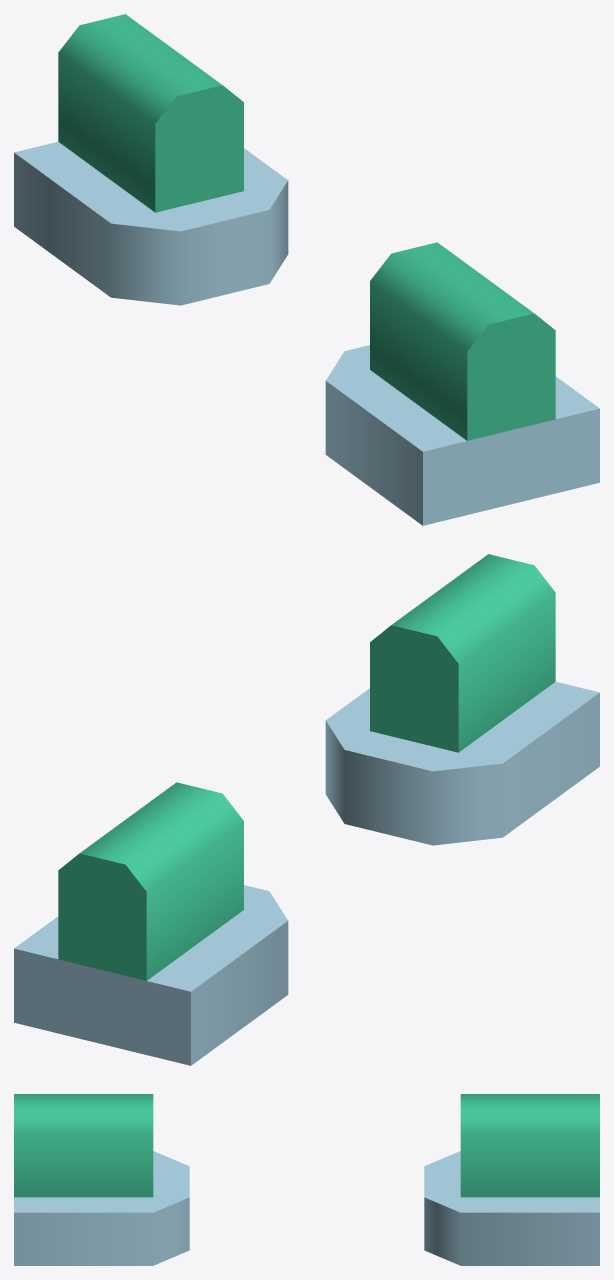
Rendered from hedgeGate.fbx.
The picture shows the model from 3 angles, top to bottom: view 1: azimuth 30°, elevation 25°; view 2: azimuth 150°, elevation 25°; view 3: azimuth 270°, elevation 25°; orthographic projection. The views are drawn at different scales.
Visible parts, largest first — view 1: hedgeGate; view 2: hedgeGate; view 3: hedgeGate.
Boxes of the visible parts, x1,y1,x2,y2 form: hedgeGate: (14,14,599,525); hedgeGate: (14,554,599,1065); hedgeGate: (14,1094,599,1265).
Size of the model in its own units: 2.5 by 2.5 by 10.
